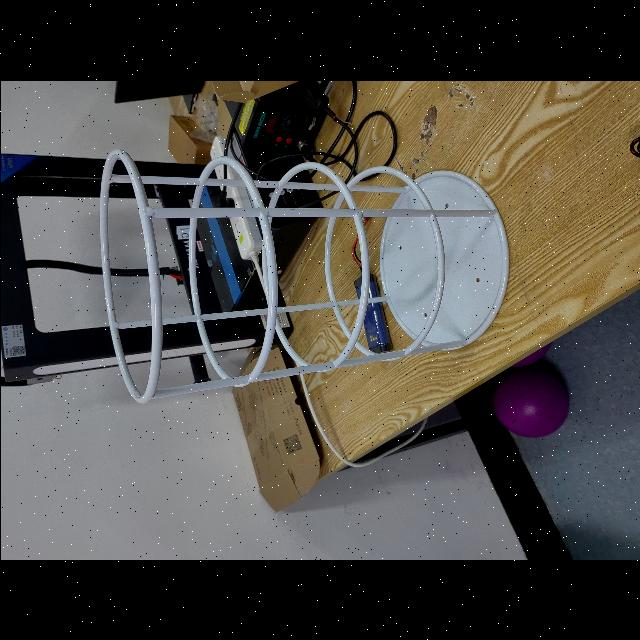S: (93, 144, 515, 410)
